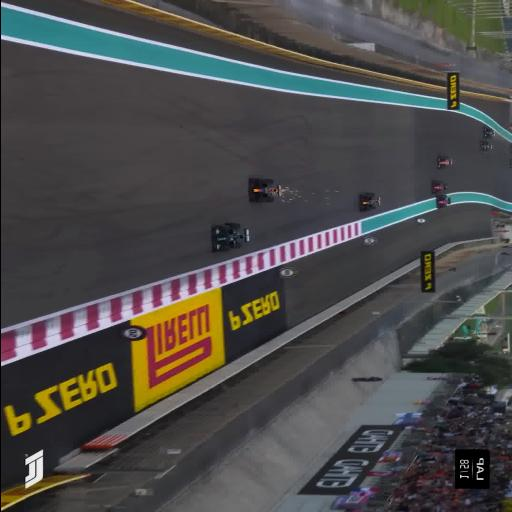f1_car: (212, 223, 249, 252), (249, 179, 281, 203), (359, 193, 380, 212), (431, 180, 447, 194), (436, 195, 451, 209), (437, 156, 451, 169), (479, 141, 492, 153), (483, 126, 495, 138)
